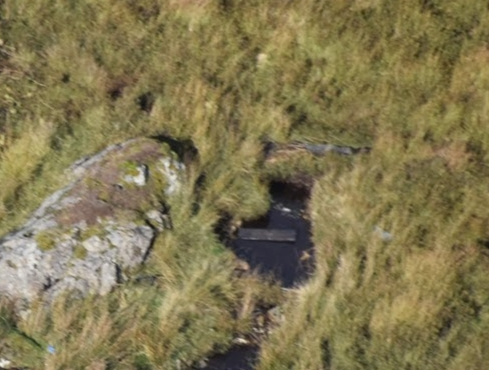straight_bar: (229, 217, 302, 248)
